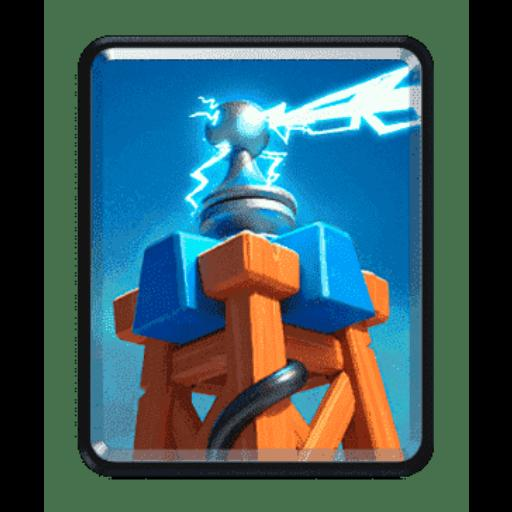tesla: (92, 62, 418, 462)
